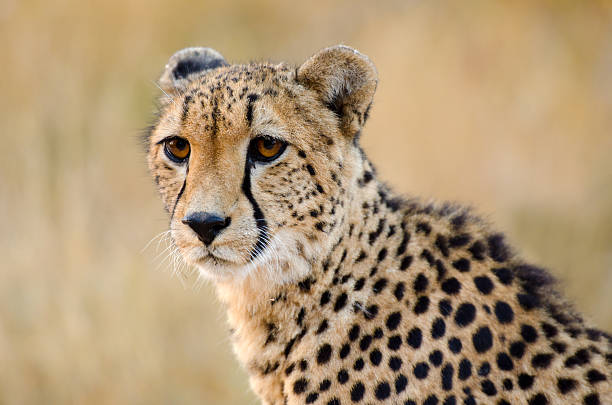cheetah: (123, 31, 402, 324)
